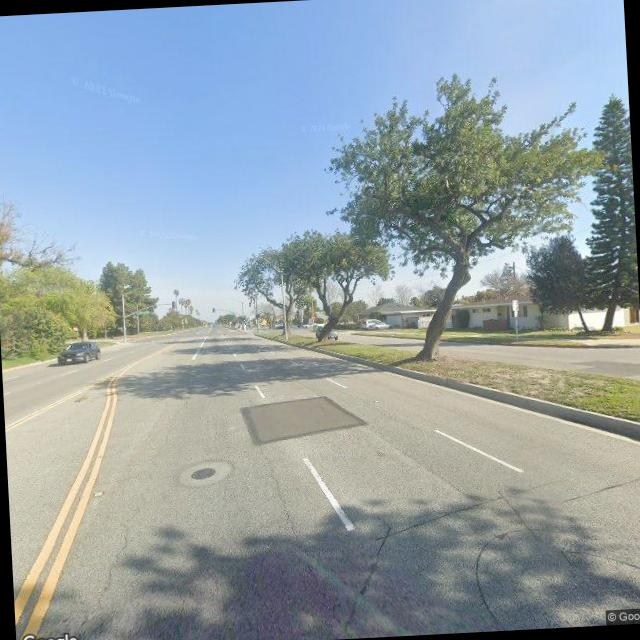crack: (75, 525, 136, 630), (267, 468, 298, 536)
